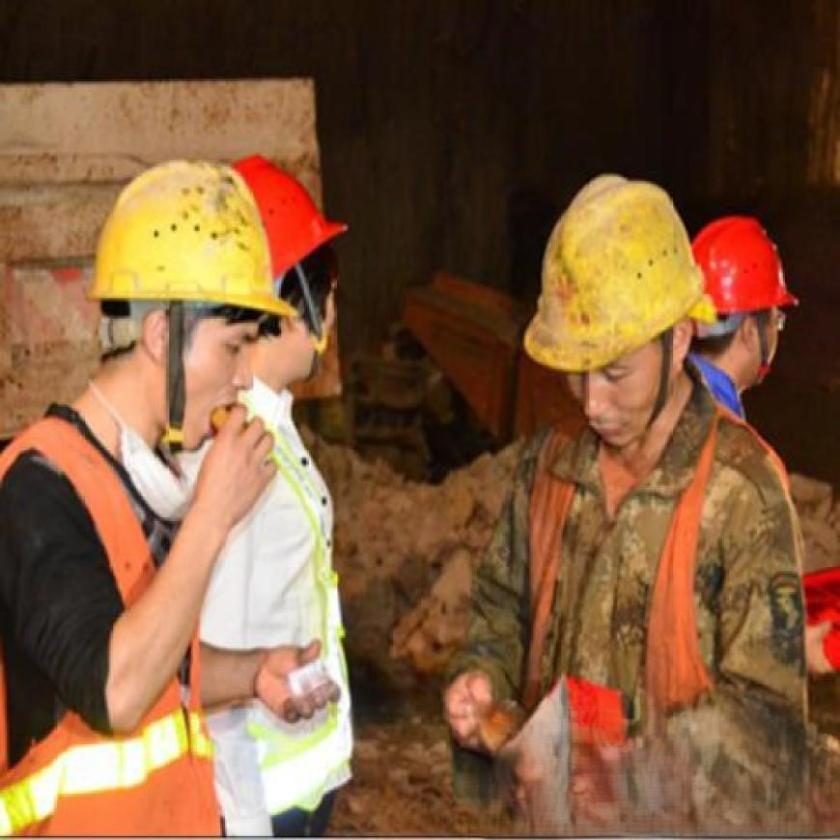Con_casco: (514, 164, 706, 462), (94, 173, 275, 461)
